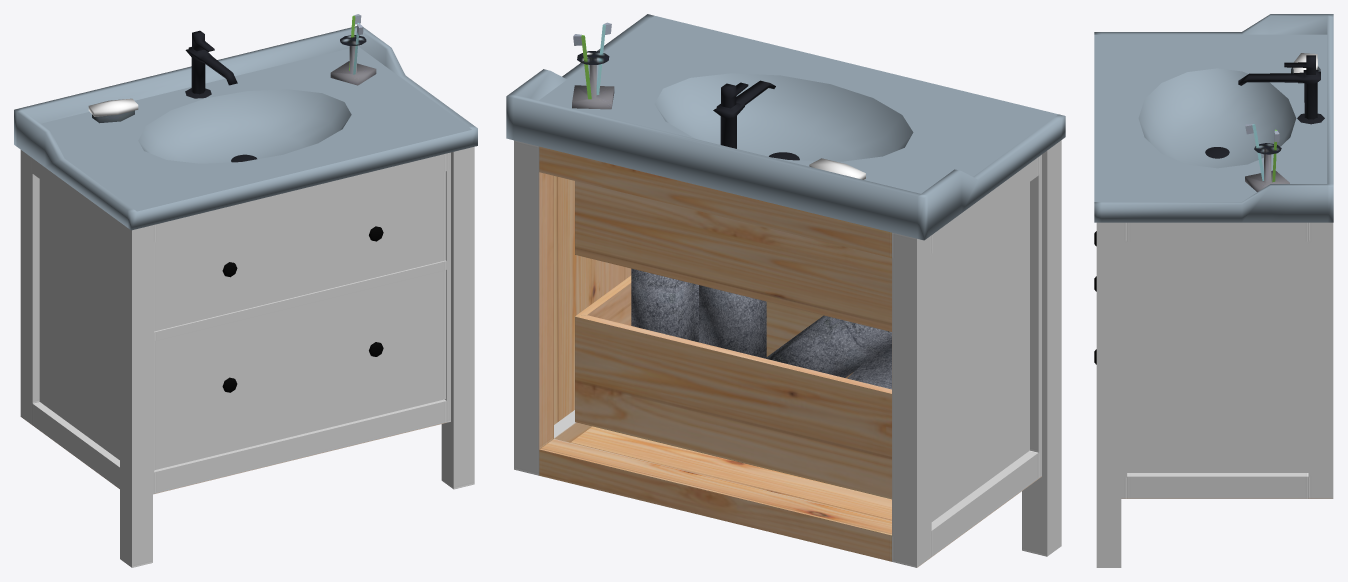
Rendered from sink_cabinet_a.glb.
3 views of the same model, side by side, from view 1: azimuth 30°, elevation 25°; view 2: azimuth 150°, elevation 25°; view 3: azimuth 270°, elevation 25° (orthographic). The views are drawn at different scales.
Parts seen in each view (by area): view 1: carcass, top, drawer_bottom, drawer_top, props; view 2: carcass, top, drawer_bottom, drawer_top, props; view 3: carcass, top, props.
Part boxes in pixels (box(x1,y1,x2,y2)): carcass: box(20, 146, 474, 567); top: box(14, 26, 477, 230); drawer_bottom: box(154, 270, 445, 470); drawer_top: box(154, 171, 445, 331); props: box(88, 14, 376, 123); carcass: box(514, 140, 1061, 567); top: box(506, 14, 1065, 240); drawer_bottom: box(575, 268, 891, 499); drawer_top: box(575, 181, 891, 331); props: box(572, 22, 865, 179); carcass: box(1096, 222, 1333, 567); top: box(1094, 14, 1333, 222); props: box(1245, 53, 1320, 191).
Bounding box in the file's own units: 0.8737 × 1 × 0.5116.
Materials: 3 (3 with a texture image).
